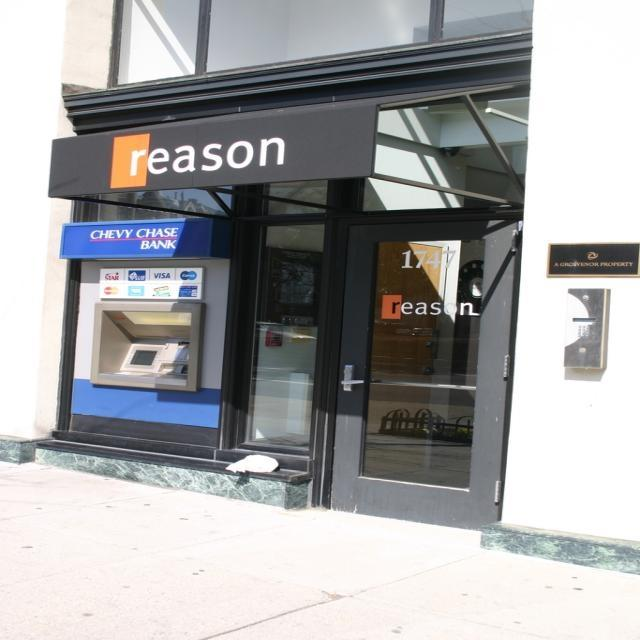door: (320, 222, 517, 540)
